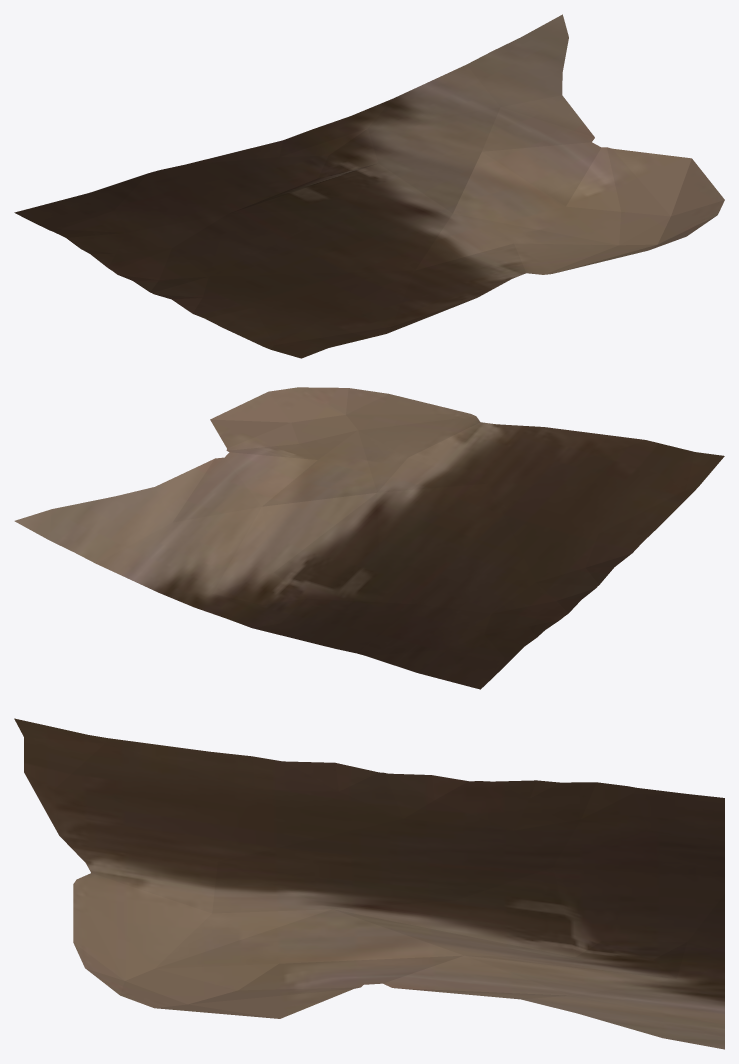
The picture shows the model from 3 angles, top to bottom: view 1: azimuth 30°, elevation 25°; view 2: azimuth 150°, elevation 25°; view 3: azimuth 270°, elevation 25°; orthographic projection. The views are drawn at different scales.
Bounding box in the file's own units: 0.3259 × 0.0365 × 0.2957.
1 material, 1 textured.
